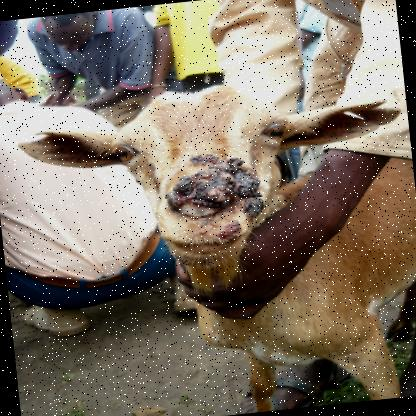ppr: (171, 168, 263, 217)
